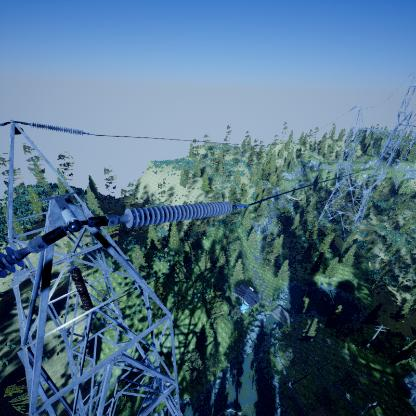insulator: (122, 201, 235, 232), (67, 264, 98, 321), (30, 119, 85, 137)
tower: (316, 103, 416, 234)
